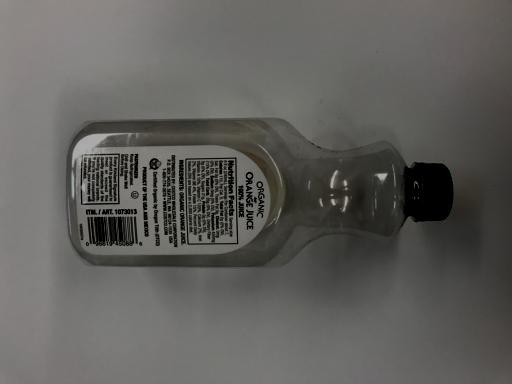bottle: (62, 110, 458, 272)
